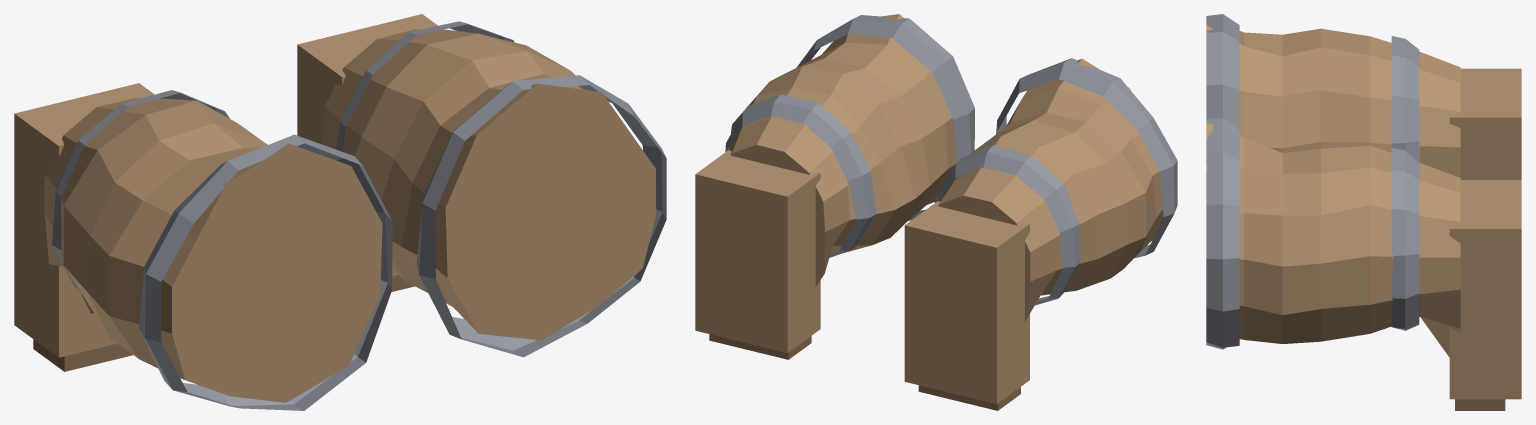
Rendered from boots_low.glb.
3 renders of one model, left to right at view 1: azimuth 30°, elevation 25°; view 2: azimuth 150°, elevation 25°; view 3: azimuth 270°, elevation 25°, orthographic. The views are drawn at different scales.
Visible parts, largest first — view 1: LowerLegR, LowerLegL, FootR, FootL; view 2: LowerLegL, LowerLegR, FootR, FootL; view 3: LowerLegL, LowerLegR, FootL, FootR.
Boxes of the visible parts, x1,y1,x2,y2 form: LowerLegR: (44,90,392,410); LowerLegL: (322,21,666,357); FootR: (14,83,154,371); FootL: (297,14,437,291); LowerLegL: (725,14,974,286); LowerLegR: (935,58,1177,322); FootR: (904,201,1029,410); FootL: (695,150,820,359); LowerLegL: (1206,118,1460,357); LowerLegR: (1206,14,1460,177); FootL: (1449,180,1521,410); FootR: (1449,68,1521,179).
Bounding box in the file's own units: 0.8704 × 0.5197 × 0.57.
